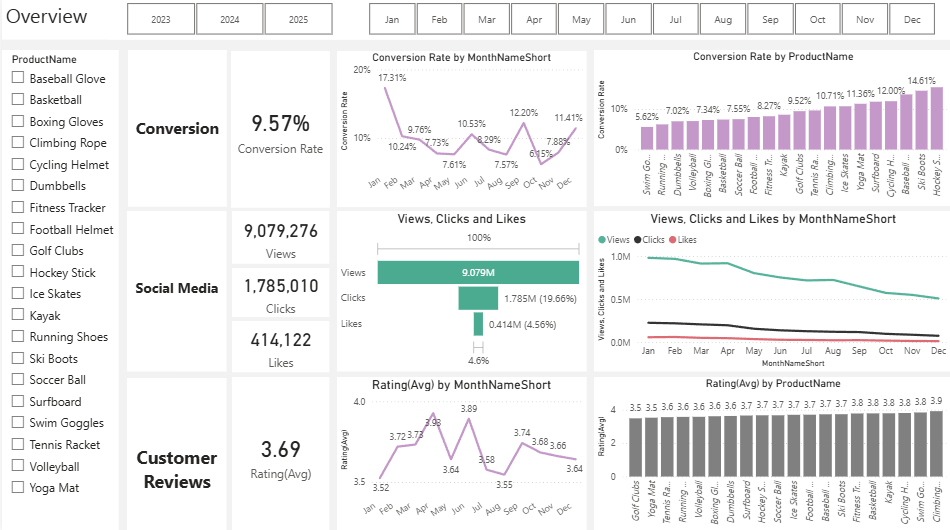

Layout of this report page (visuals, bound fields, positions):
{"tool":"powerbi","page":{"name":"Overview","canvas":[1280,720],"ordinal":0},"visuals":[{"type":"textbox","box":[0,0,1280.2,56.2],"z":0},{"type":"slicer","fields":{"Values":["dim_products.ProductName"]},"box":[0,70.2,156.9,649.6],"z":1000},{"type":"textbox","box":[170,70,132.9,211.4],"z":2000},{"type":"textbox","box":[168.6,287.1,134.3,215.7],"z":3000},{"type":"textbox","box":[168.6,511.4,134.3,208.6],"z":4000},{"type":"card","fields":{"Values":["_Calculation.Conversion Rate"]},"box":[308.6,71.4,132.9,211.4],"z":5000},{"type":"card","fields":{"Values":["_Calculation.Views"]},"box":[310,287.1,131.4,71.4],"z":6000},{"type":"card","fields":{"Values":["_Calculation.Clicks"]},"box":[310,362.9,131.4,65.7],"z":7000},{"type":"card","fields":{"Values":["_Calculation.Likes"]},"box":[310,434.3,131.4,68.6],"z":8000},{"type":"card","fields":{"Values":["_Calculation.Rating(Avg)"]},"box":[310,510,131.4,210],"z":9000},{"type":"slicer","fields":{"Values":["Calendar.Year"]},"box":[142.9,0,325.7,55.7],"z":10000},{"type":"slicer","fields":{"Values":["Calendar.MonthNameShort"]},"box":[468.6,0,811.4,55.7],"z":11000},{"type":"lineChart","fields":{"Y":["_Calculation.Conversion Rate"],"Category":["Calendar.MonthNameShort"]},"box":[451.4,71.4,335.7,210],"z":12000},{"type":"columnChart","fields":{"Y":["_Calculation.Conversion Rate"],"Category":["dim_products.ProductName"]},"box":[797.1,70,482.9,210],"z":13000},{"type":"lineChart","fields":{"Y":["_Calculation.Views","_Calculation.Clicks","_Calculation.Likes"],"Category":["Calendar.MonthNameShort"]},"box":[797.1,287.1,482.9,215.7],"z":14000},{"type":"funnel","fields":{"Y":["_Calculation.Views","_Calculation.Clicks","_Calculation.Likes"]},"box":[451.4,287.1,335.7,215.7],"z":15000},{"type":"lineChart","fields":{"Category":["Calendar.MonthNameShort"],"Y":["_Calculation.Rating(Avg)"]},"box":[451.4,510,335.7,210],"z":16000},{"type":"clusteredColumnChart","fields":{"Category":["dim_products.ProductName"],"Y":["_Calculation.Rating(Avg)"]},"box":[797.1,510,482.9,210],"z":17000}]}

Visuals, with their boxes in screenshot pixels (x1, y1, x2, y2), scaled from the page's 1280x720 canvas onto the 950x530 screenshot:
textbox: BBox(0, 0, 949, 41)
slicer - dim_products.ProductName: BBox(0, 52, 116, 529)
textbox: BBox(126, 52, 225, 207)
textbox: BBox(125, 211, 225, 370)
textbox: BBox(125, 376, 225, 529)
card - _Calculation.Conversion Rate: BBox(229, 53, 328, 208)
card - _Calculation.Views: BBox(230, 211, 328, 264)
card - _Calculation.Clicks: BBox(230, 267, 328, 315)
card - _Calculation.Likes: BBox(230, 320, 328, 370)
card - _Calculation.Rating(Avg): BBox(230, 375, 328, 529)
slicer - Calendar.Year: BBox(106, 0, 348, 41)
slicer - Calendar.MonthNameShort: BBox(348, 0, 949, 41)
lineChart - _Calculation.Conversion Rate x Calendar.MonthNameShort: BBox(335, 53, 584, 207)
columnChart - _Calculation.Conversion Rate x dim_products.ProductName: BBox(592, 52, 949, 206)
lineChart - _Calculation.Views x _Calculation.Clicks: BBox(592, 211, 949, 370)
funnel - _Calculation.Views x _Calculation.Clicks: BBox(335, 211, 584, 370)
lineChart - Calendar.MonthNameShort x _Calculation.Rating(Avg): BBox(335, 375, 584, 529)
clusteredColumnChart - dim_products.ProductName x _Calculation.Rating(Avg): BBox(592, 375, 949, 529)
